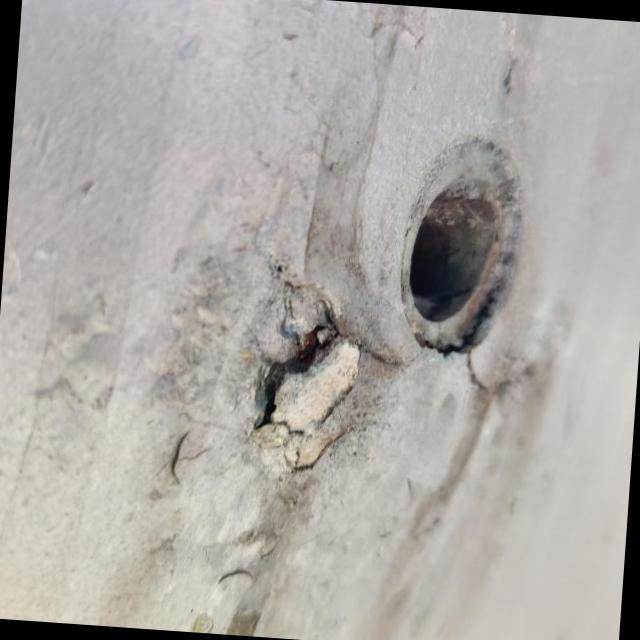Rupture: (220, 271, 414, 486)
